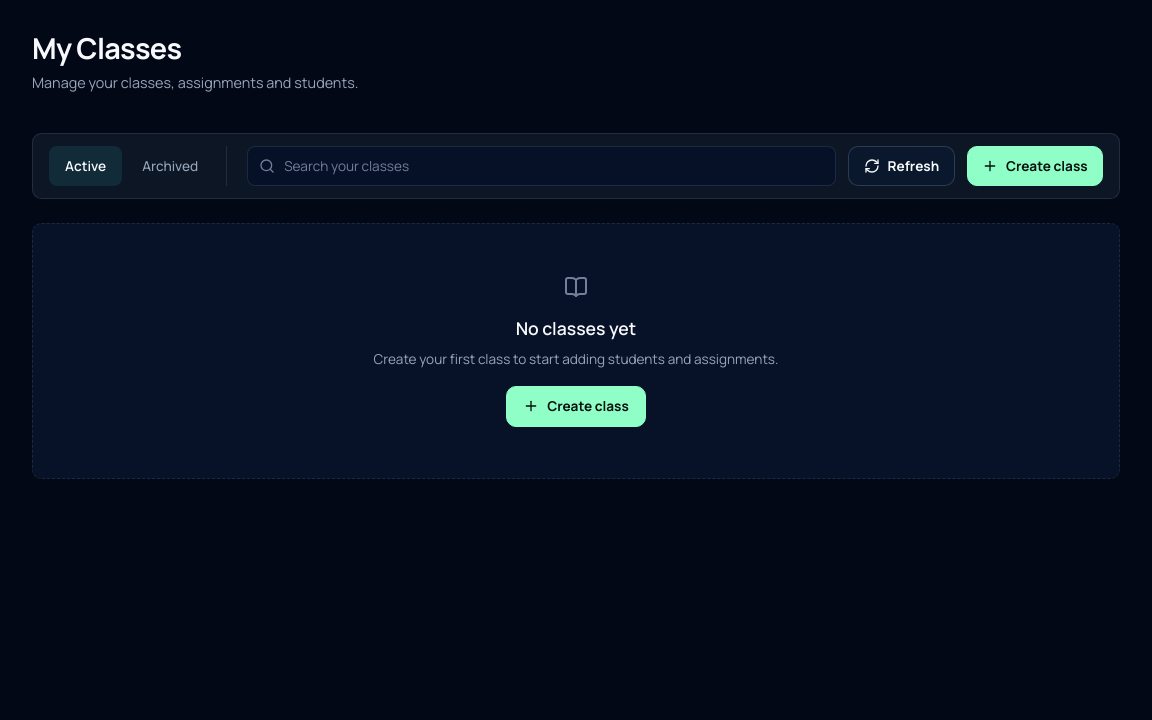
Test: teacher class creation › prevents duplicate submission and immediately shows the created class
Click the 1st button "Create class". click: point(1035, 166)
box: [967, 146, 1103, 186]
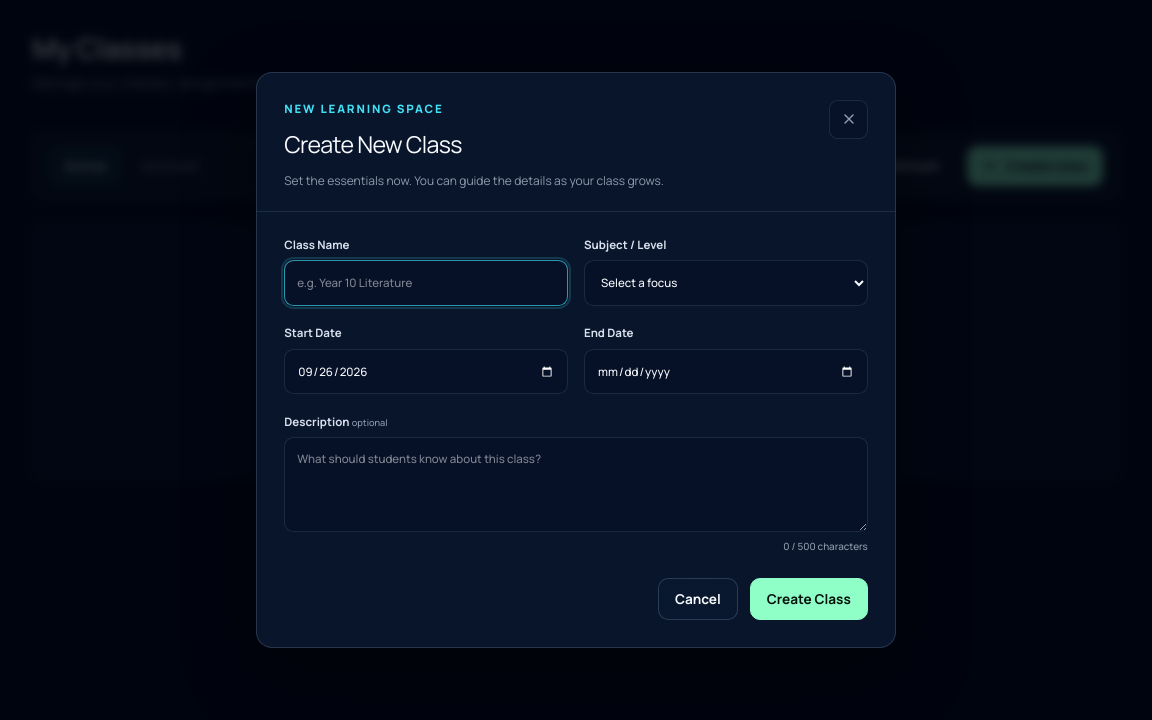
Type "Year 10 Literature" into the field labelled "Class Name". click: point(426, 283)
box: [284, 260, 568, 306]
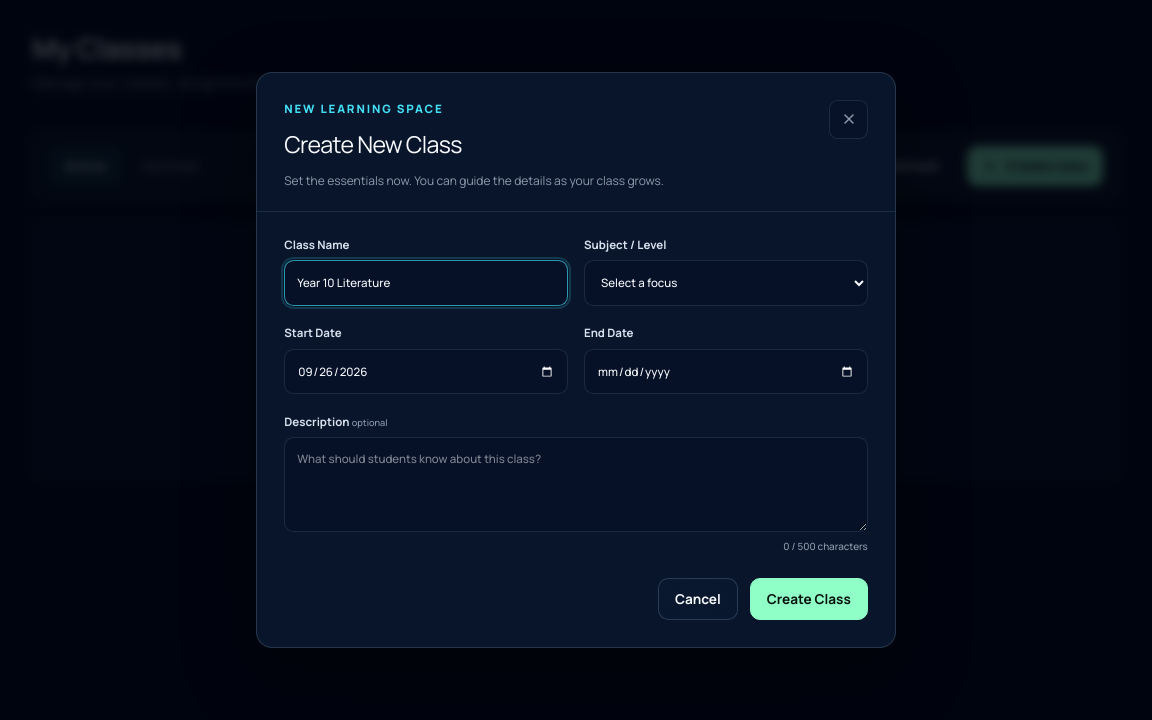
Select "English Literature" in the dropdown labelled "Subject / Level". click: point(726, 283)
box: [584, 260, 868, 306]
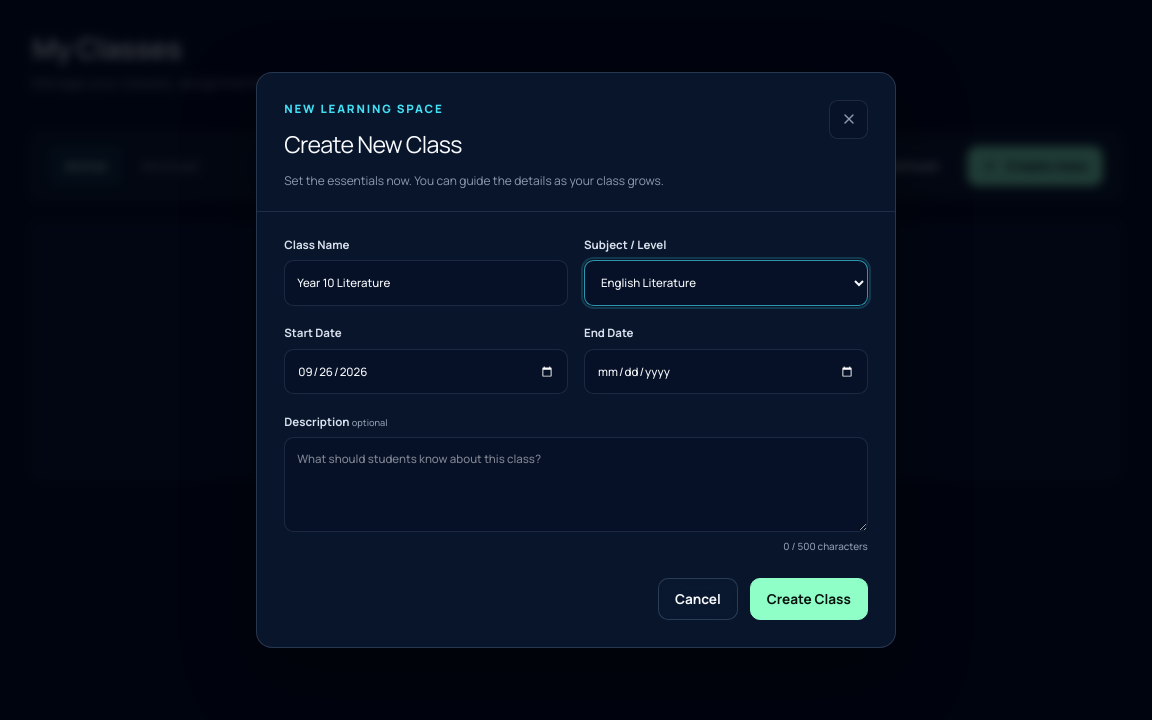
Click the button "Create Class". click: point(809, 599)
box: [750, 578, 868, 620]
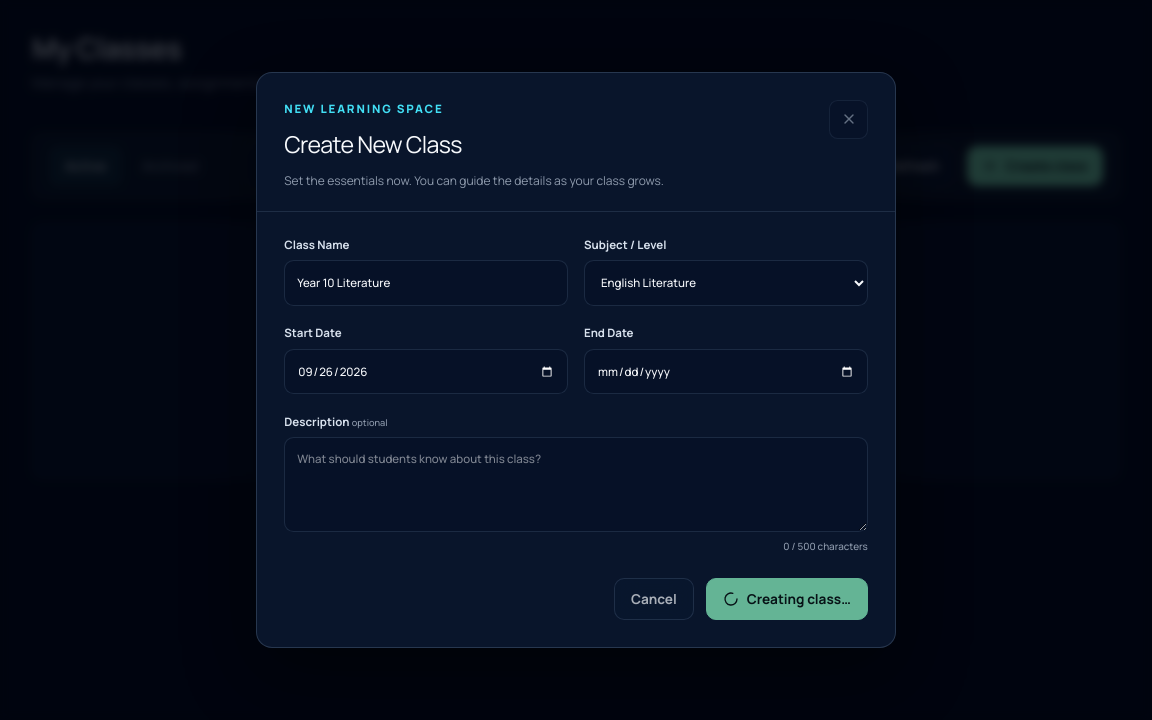
Expected: the button "Creating class…" is disabled
Click the button "Creating class…". click: point(787, 599)
box: [706, 578, 868, 620]
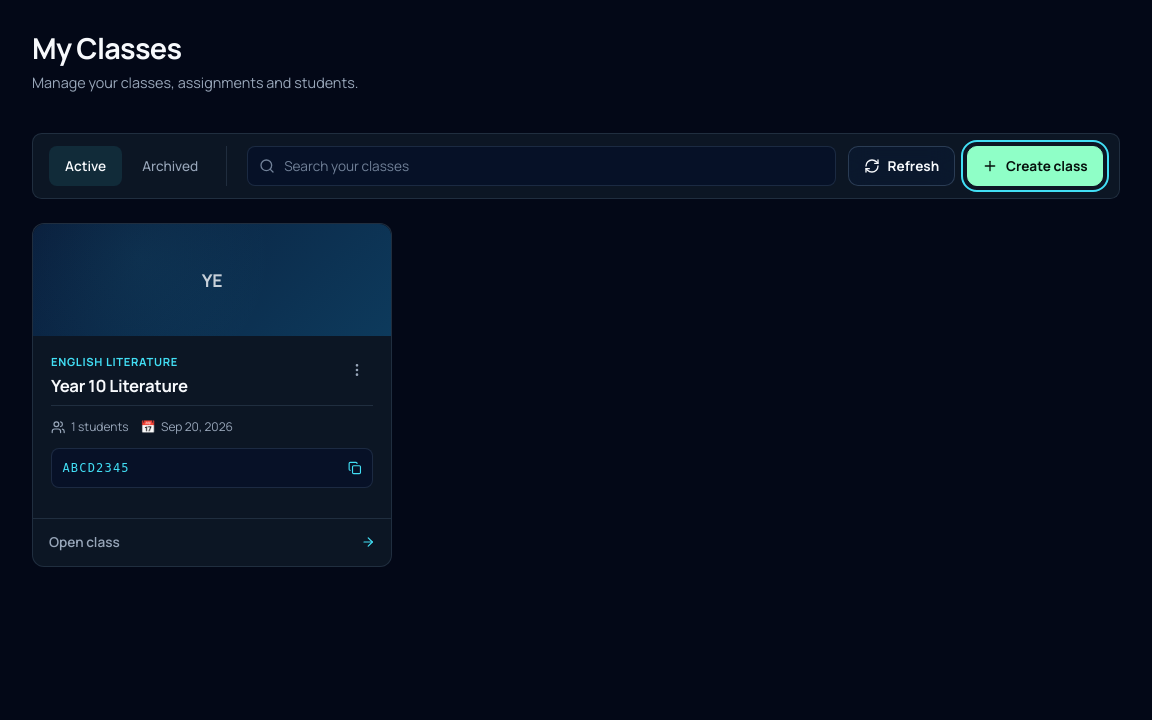
Expected: the heading "Year 10 Literature" is shown, [51, 375, 188, 397]
Expected: the dialog is gone
